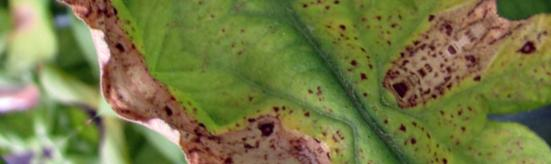Tomato Early blight leaf: (93, 0, 537, 164)
